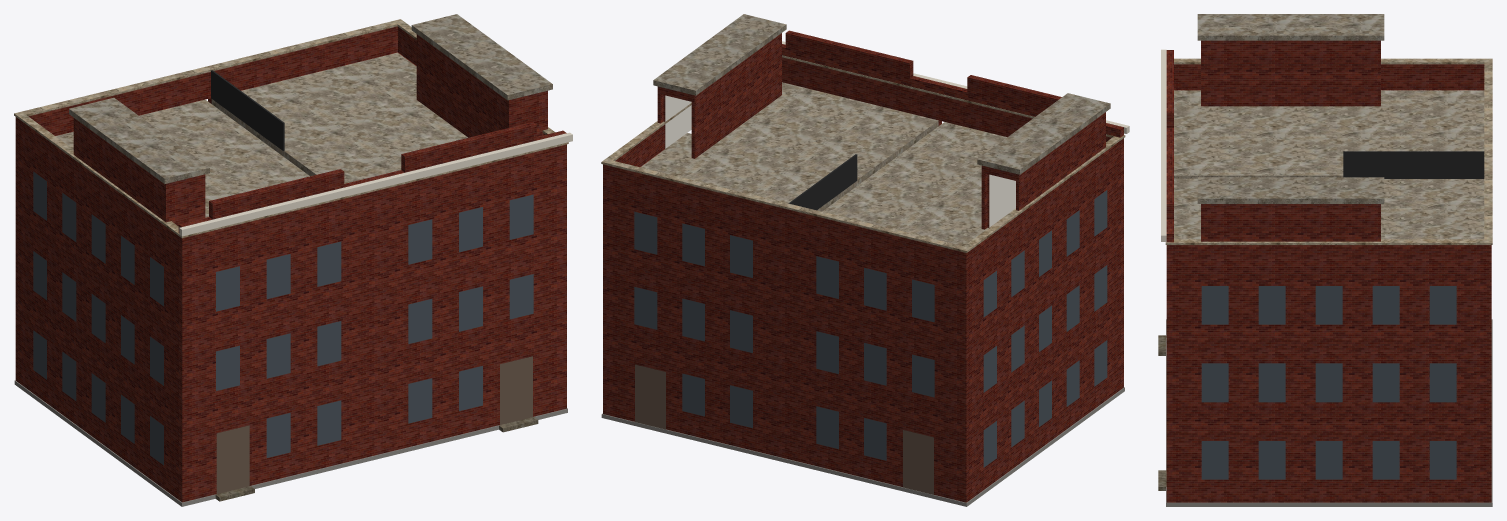
File: mh-dutch-duplex.towns-v1.lod1.glb
3 renders of one model, left to right at view 1: azimuth 30°, elevation 25°; view 2: azimuth 150°, elevation 25°; view 3: azimuth 270°, elevation 25°, orthographic. The views are drawn at different scales.
Visible parts, largest first — view 1: mh-dutch-duplex; view 2: mh-dutch-duplex; view 3: mh-dutch-duplex.
Part boxes in pixels (x1,y1,x2,y2): mh-dutch-duplex: [14, 14, 572, 506]; mh-dutch-duplex: [601, 14, 1129, 506]; mh-dutch-duplex: [1158, 14, 1492, 506].
Bounding box in the file's own units: 15.44 × 11.95 × 11.74.
3 materials, 2 textured.
